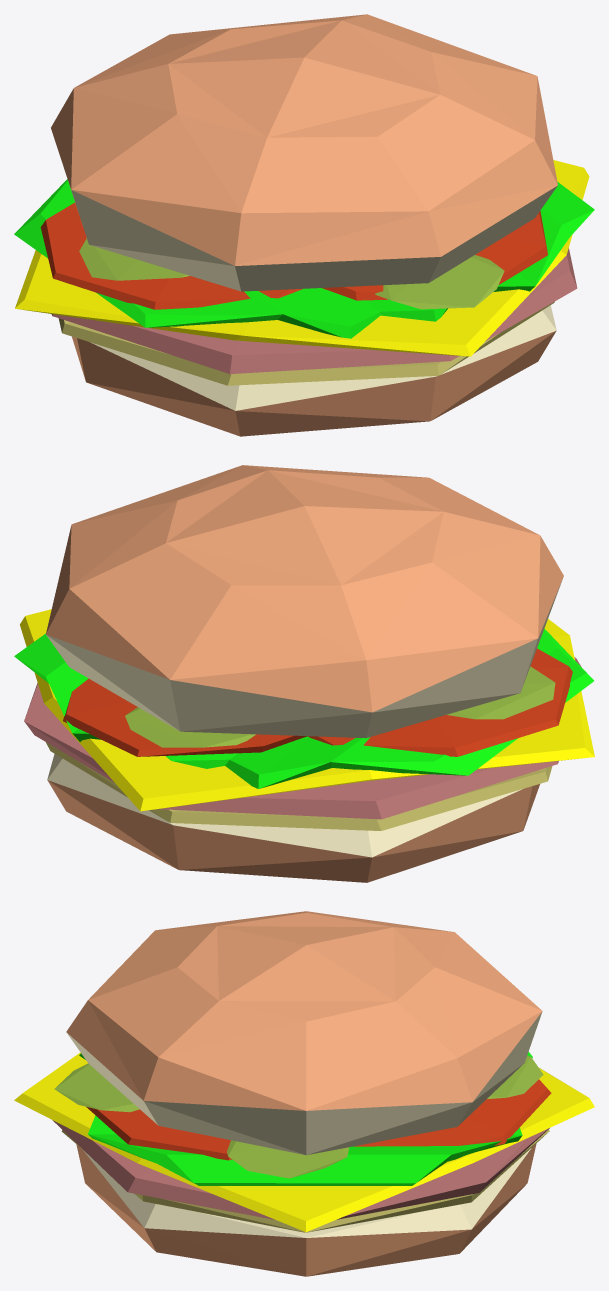
Rendered from Hamburger.fbx.
The picture shows the model from 3 angles, top to bottom: view 1: azimuth 30°, elevation 25°; view 2: azimuth 150°, elevation 25°; view 3: azimuth 270°, elevation 25°; orthographic projection. The views are drawn at different scales.
Visible parts, largest first — view 1: Hamburger; view 2: Hamburger; view 3: Hamburger.
Part boxes in pixels (<box>): Hamburger: <box>14,14,594,436</box>; Hamburger: <box>14,465,594,882</box>; Hamburger: <box>14,911,594,1276</box>.
Size of the model in its own units: 15.23 by 7.26 by 15.19.
